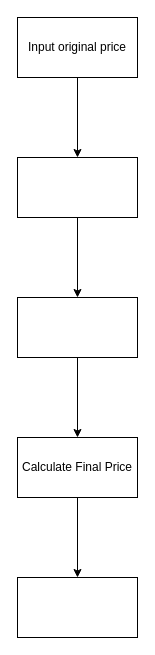
Some shapes in this 155 by 655 pixel diagram are drawn without their labels. The centre of each missing label's shape, as x and y in pixels:
"calculate discount amount" belongs at pixel 77 327.
"input discount rate" belongs at pixel 77 187.
